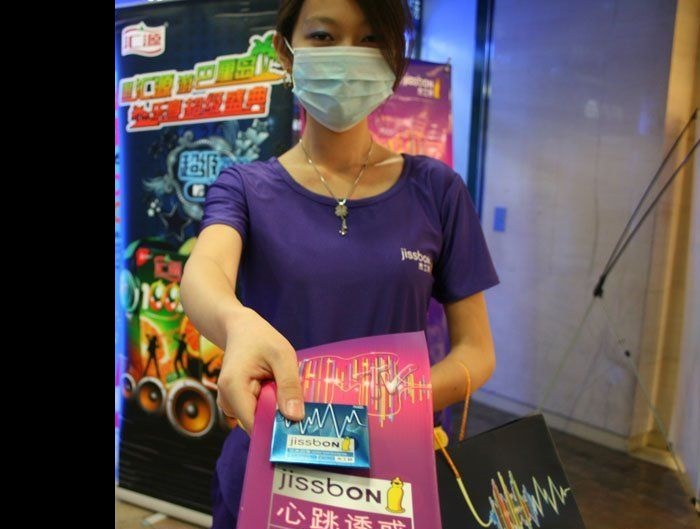face_mask: (295, 13, 395, 133)
